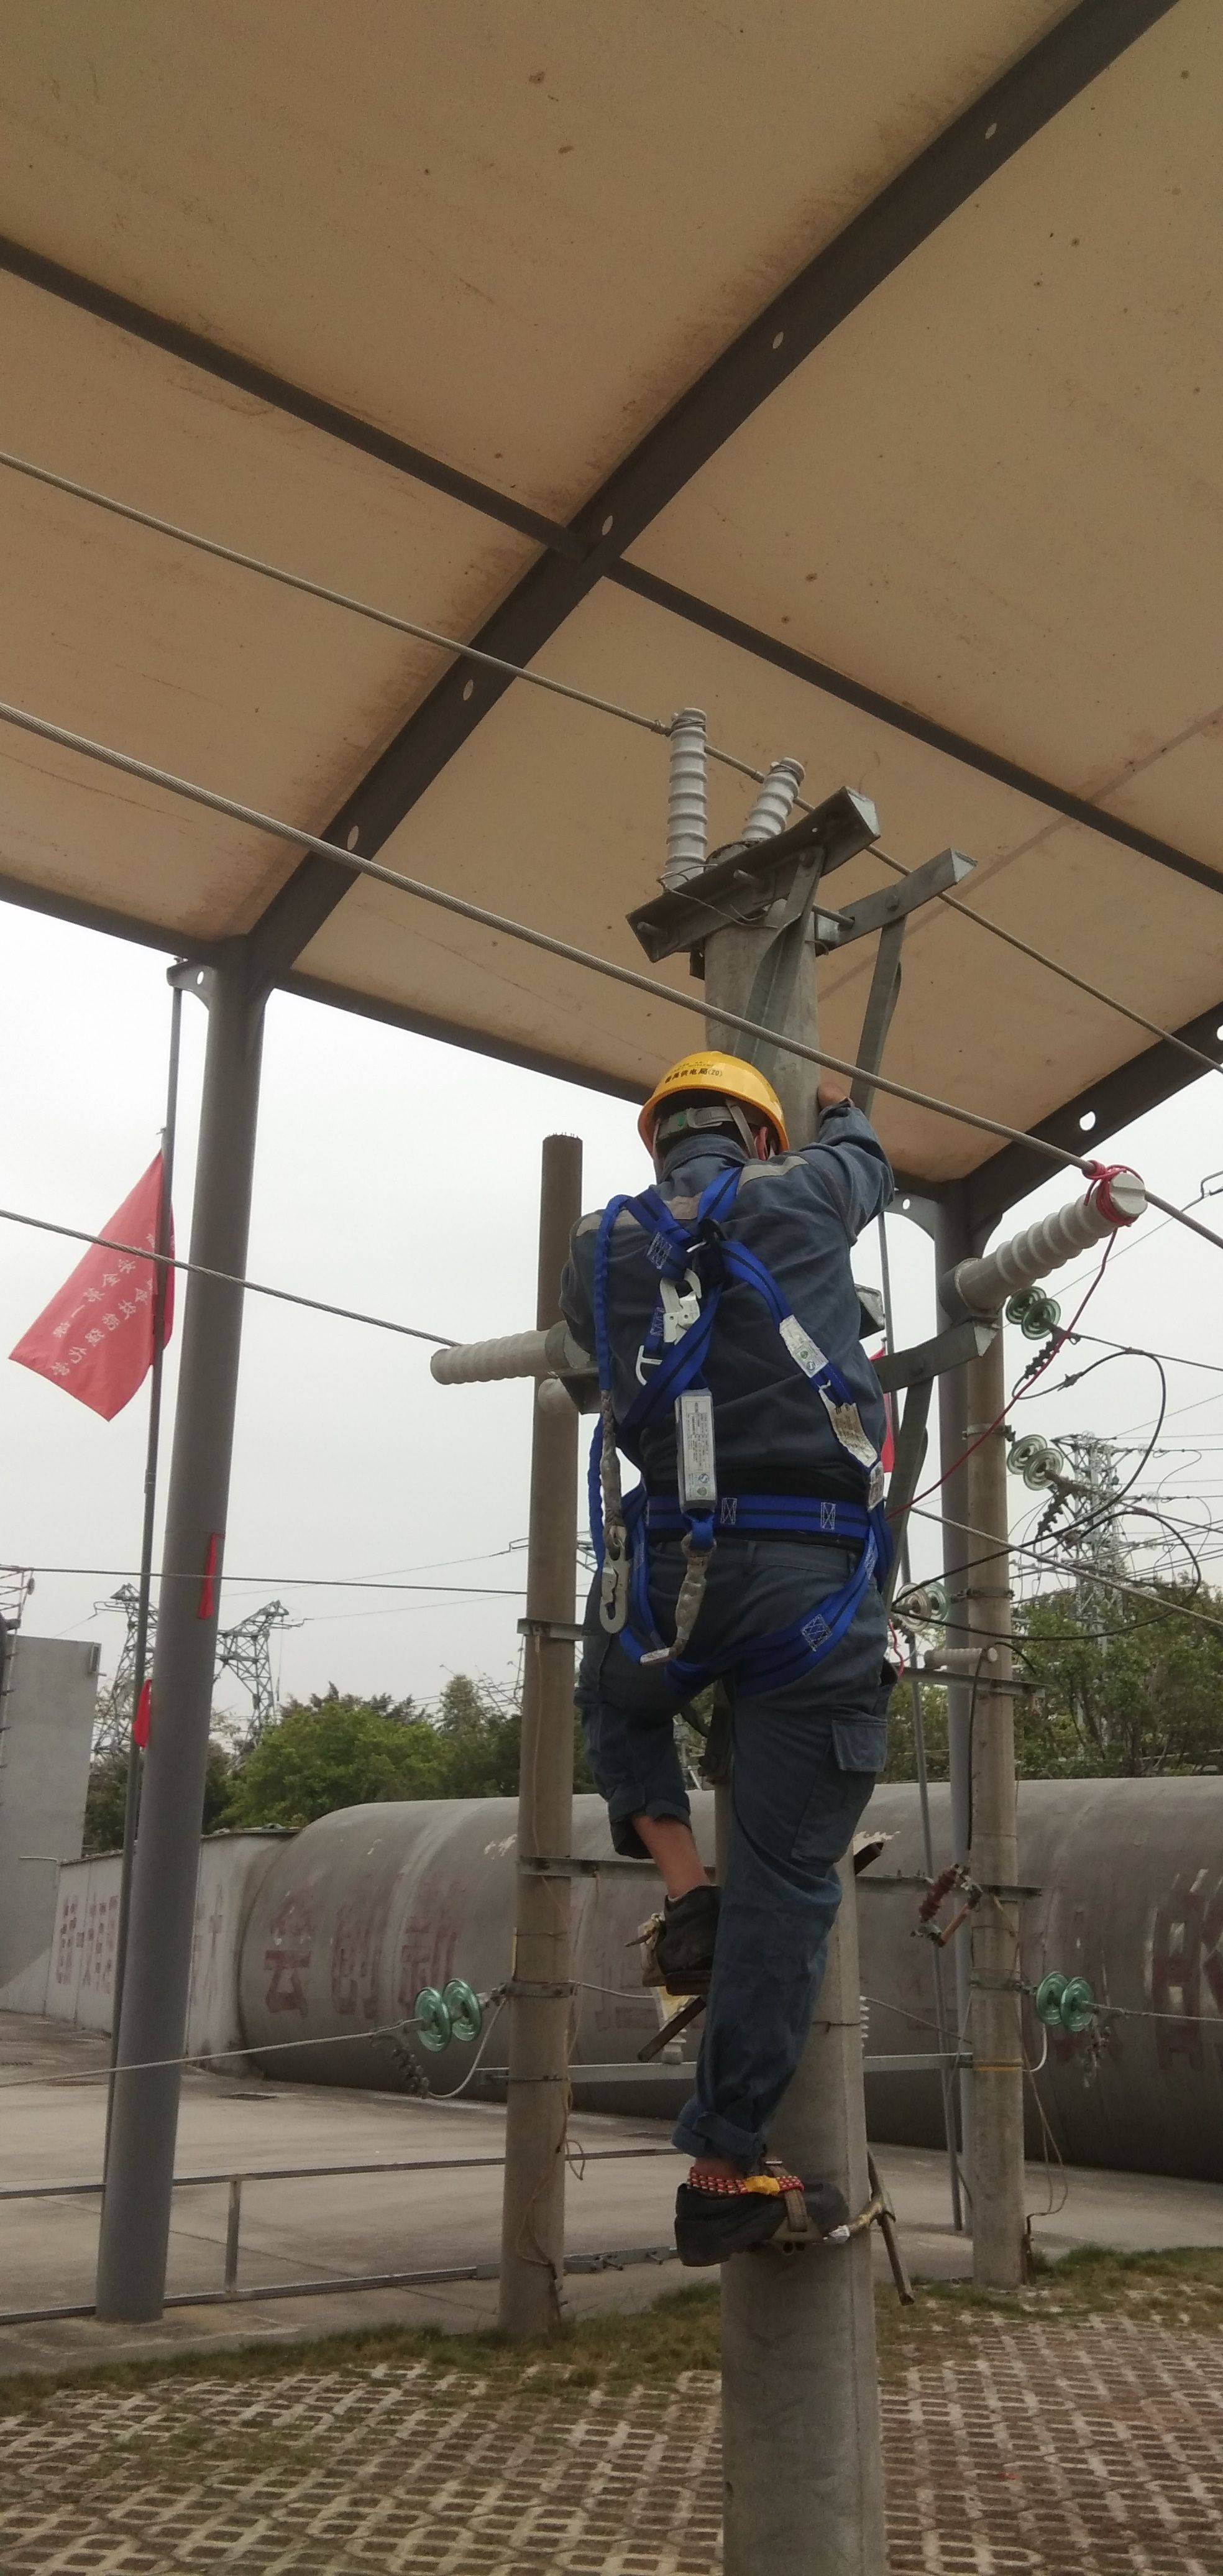downsuit: (578, 1541, 903, 2180)
upsuit: (571, 1152, 883, 1525)
